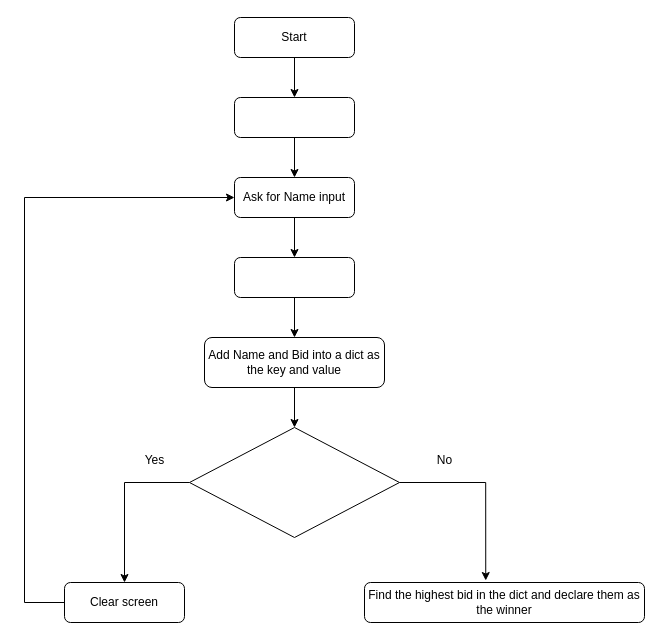
This 662x640 diagram has some shape labels left out. Each missing label, with the centre of its shape:
"Ask for Bid Price" goes at (x=294, y=277).
"Ask if there are other users who want to bid" goes at (x=294, y=482).
"Show logo from logo.py" goes at (x=294, y=117).
